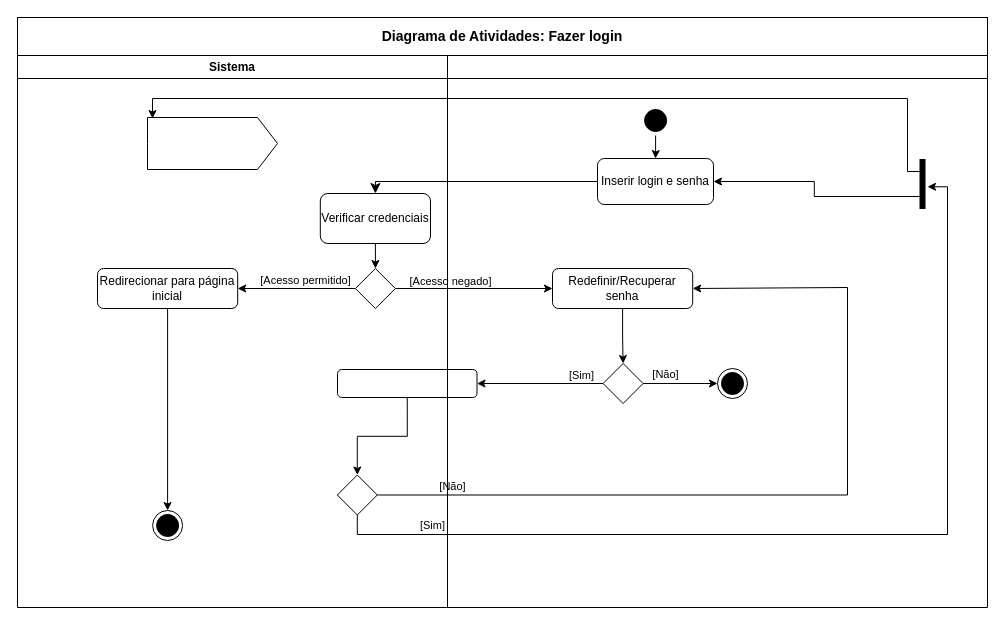
This 1005x625 diagram has some shape labels left out. Here are the shapes that lost their labels. From the top down, the box of each, then its label:
(146, 116, 278, 170): Notificação senha alterado com sucesso
(446, 54, 988, 608): Usuário
(336, 368, 477, 398): Nova senha válida
